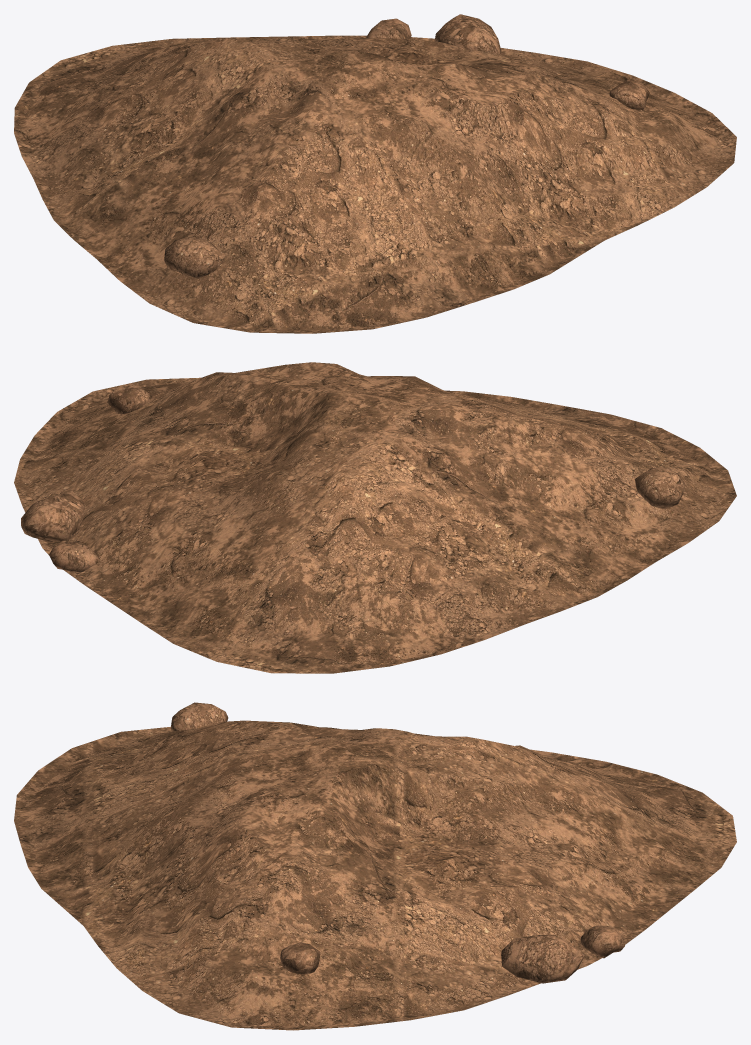
File: b_n_clay.glb
The picture shows the model from 3 angles, top to bottom: view 1: azimuth 30°, elevation 25°; view 2: azimuth 150°, elevation 25°; view 3: azimuth 270°, elevation 25°; orthographic projection. The views are drawn at different scales.
Parts seen in each view (by area): view 1: b_n_clay; view 2: b_n_clay; view 3: b_n_clay.
Boxes of the visible parts, x1,y1,x2,y2 form: b_n_clay: [14, 14, 736, 333]; b_n_clay: [14, 362, 736, 673]; b_n_clay: [14, 702, 736, 1030].
Bounding box in the file's own units: 1.63 × 0.2859 × 1.63.
Materials: 1 (1 with a texture image).
